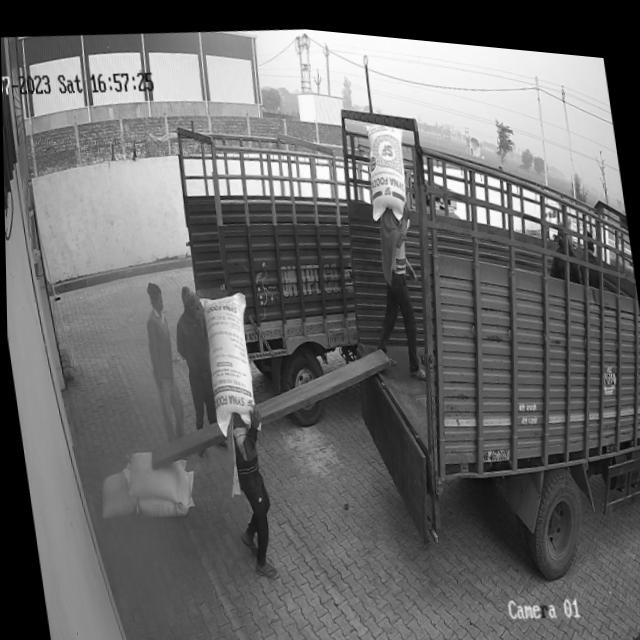sack: (197, 284, 263, 434), (359, 112, 414, 219), (120, 441, 189, 505), (127, 462, 197, 519), (92, 463, 137, 520)
